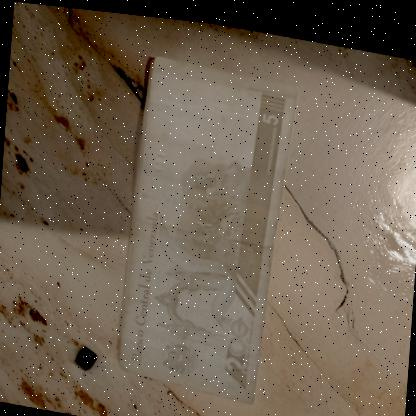five-back-vef: (118, 46, 298, 404)
